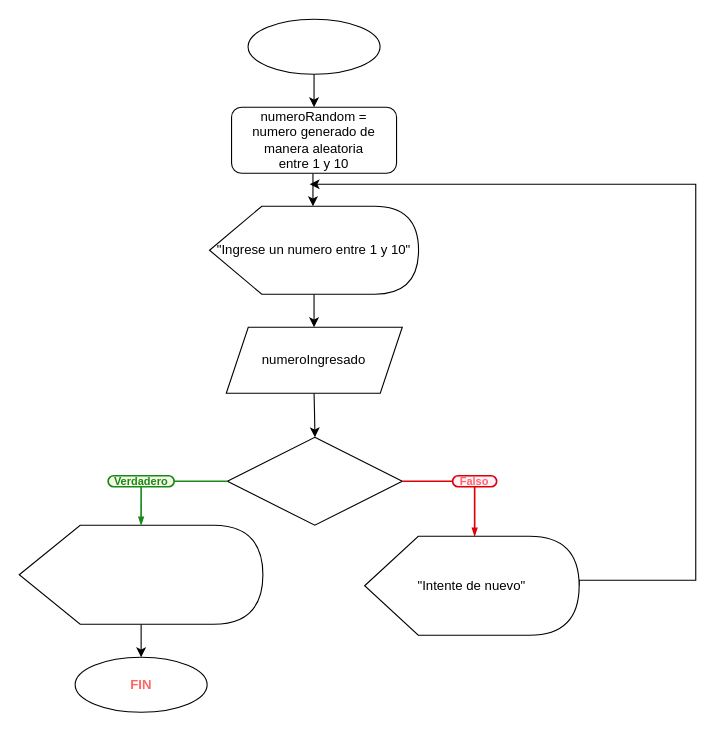
Image size: 724x732. Some labels were removed from this diagram. The shapes that lost their labels are listed below. From the top down, each one's centre as x and y in pixels, then its label:
[313,46]: INICIO
[314,480]: numeroIngresado = numeroRandom
[140,574]: 'felicidades por adivinar el numero'' numeroRandom
